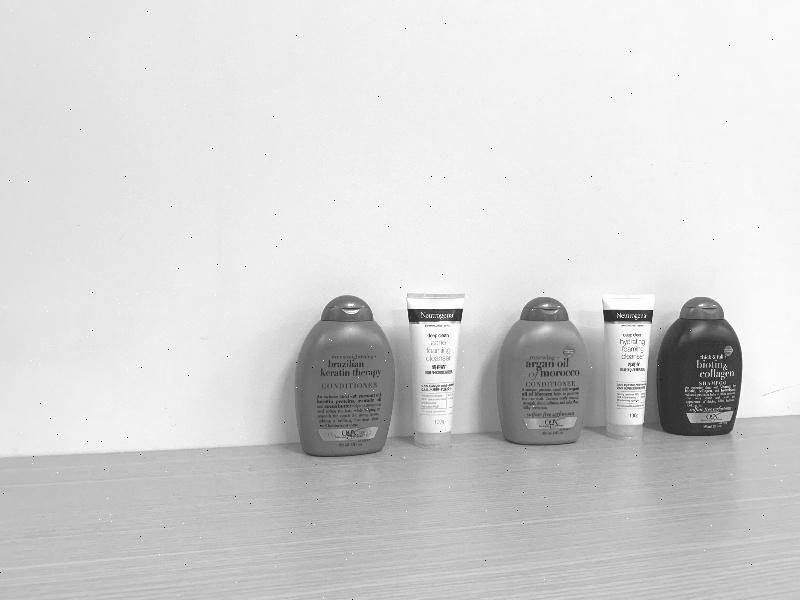AcneFoamingCleanser: (406, 293, 465, 449)
ArganOilOfMorocco_Conditioner: (496, 297, 589, 444)
BiotinCollagen_Shampoo: (656, 297, 743, 436)
BrazilianKerationTherapy_Conditioner: (295, 295, 395, 456)
HydratingFoamingCleanser: (602, 293, 655, 440)
